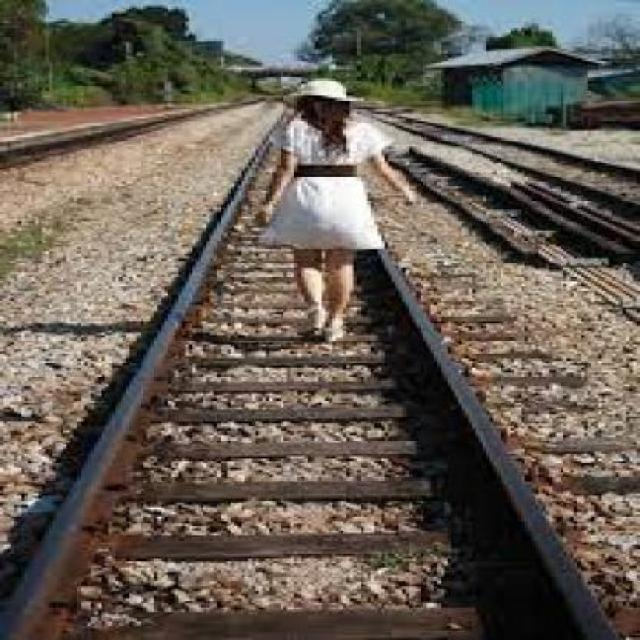danger: (262, 80, 395, 346)
rail: (11, 73, 634, 638)
